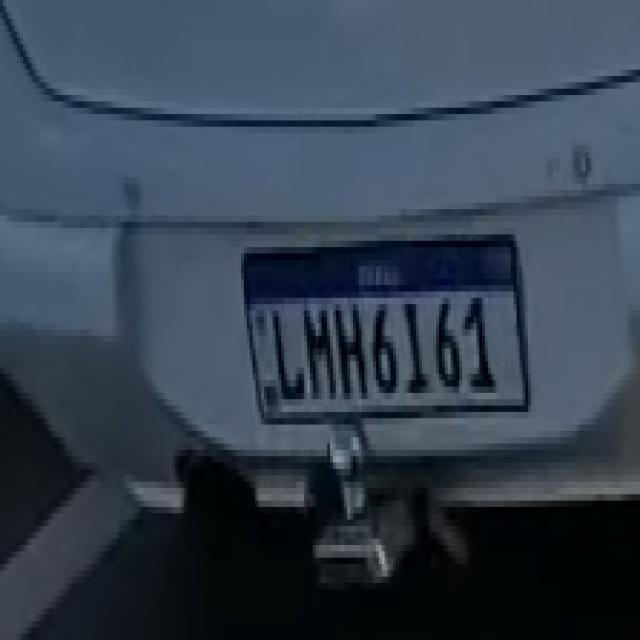Placa_mercosul_carro: (240, 235, 533, 423)
